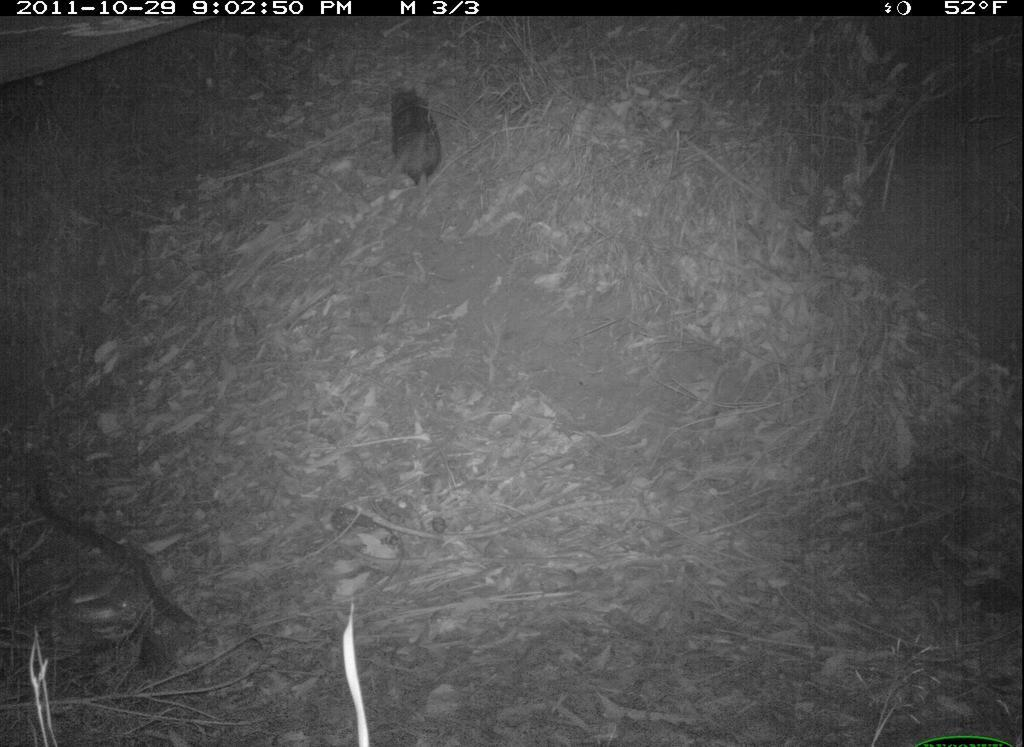opossum: (377, 88, 452, 196)
